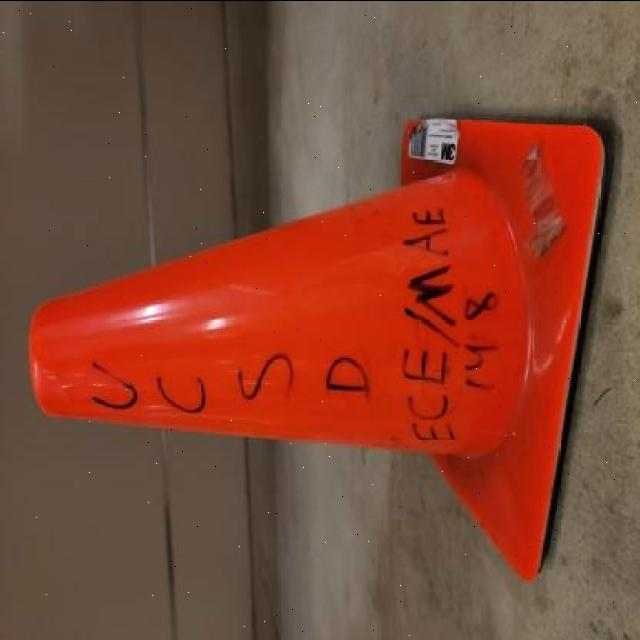traffic cone: (23, 110, 621, 596)
